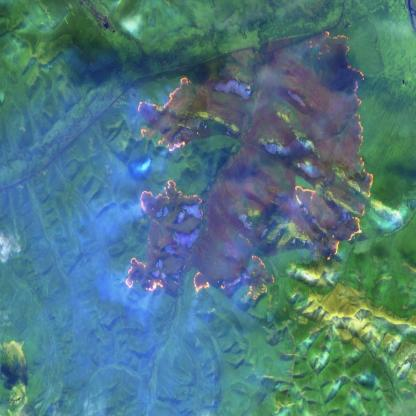fire: (116, 25, 387, 306)
